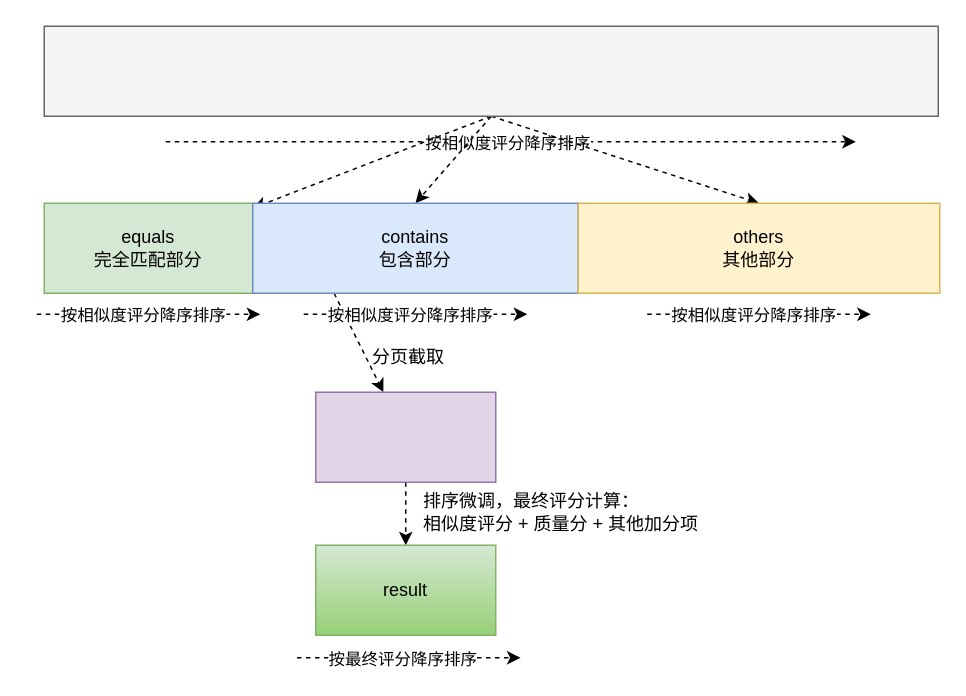
The diagram is 966 pixels wide and 696 high, and some of its shapes have lost their labels. Each missing label, with the centre of its shape:
200 rows: [490,70]
page n: [405,436]
